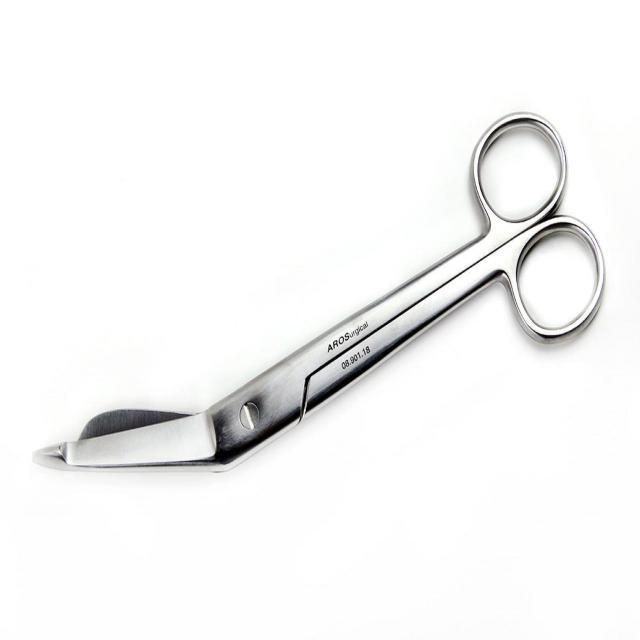scissors: (28, 108, 610, 477)
